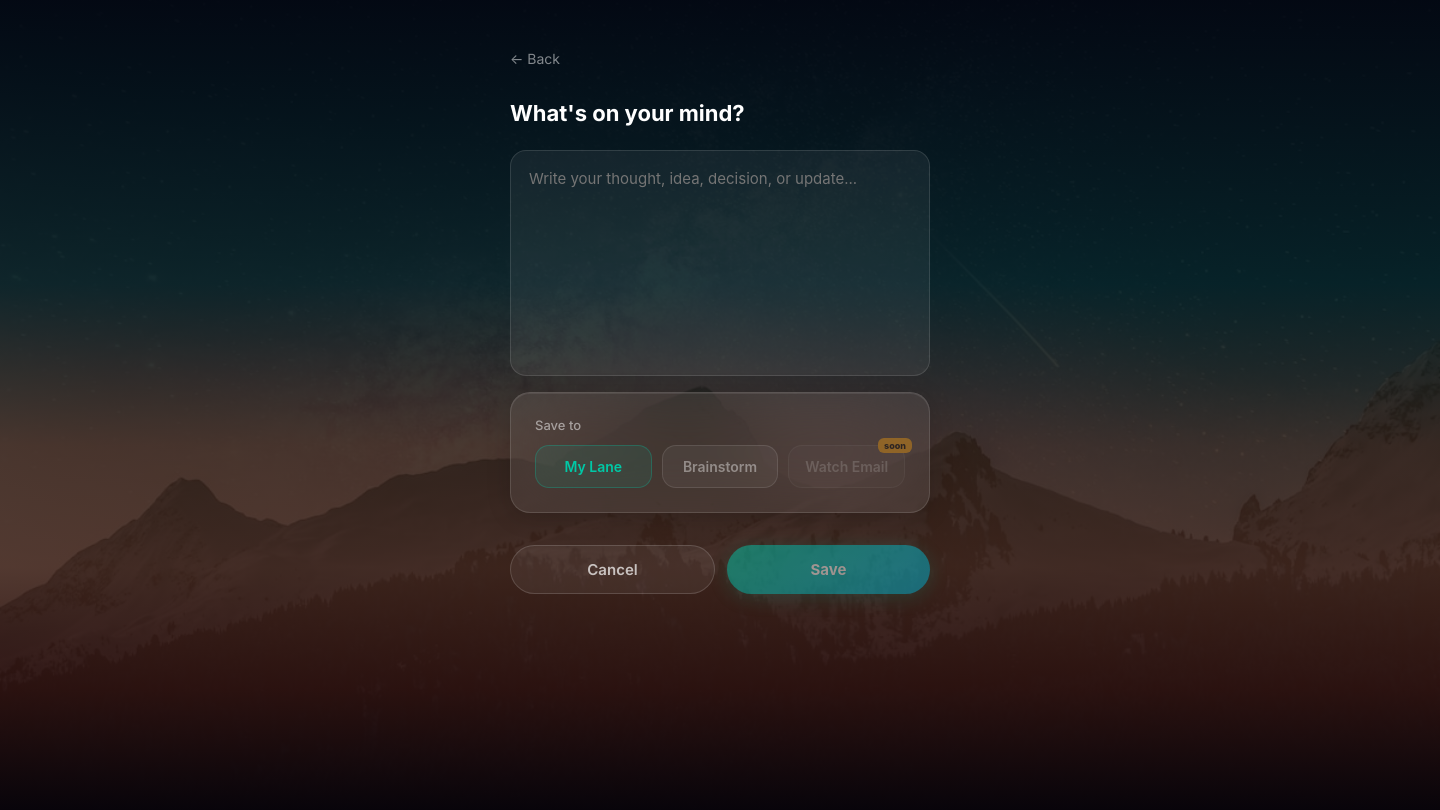
Test: Add Something page › Save button enables when text is entered
This screenshot has width=1440, height=810.
Type "Test thought" into the text box with placeholder "Write your thought, idea, decision, or update..." at [720, 263], box [510,150,930,376]
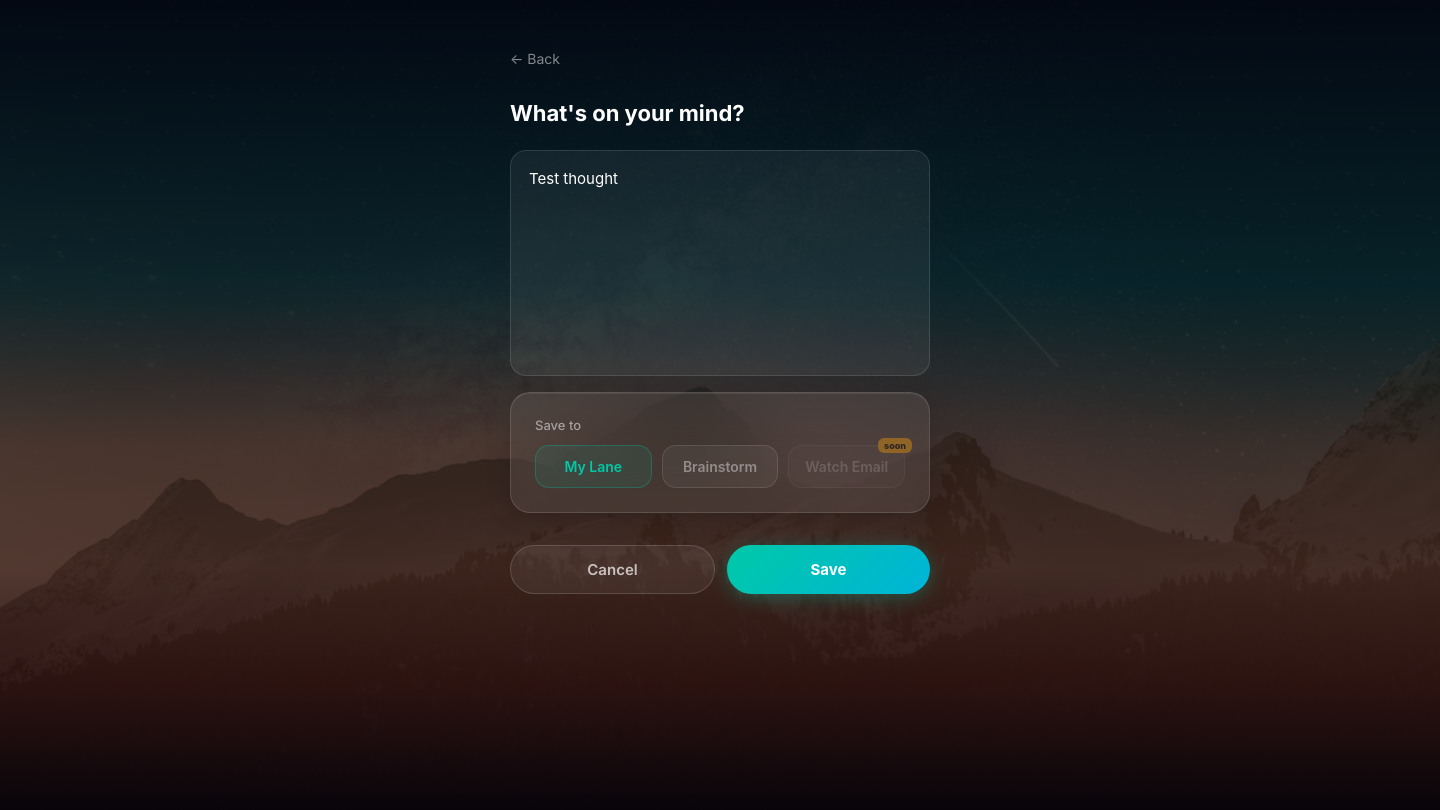
Now the button "Save" is enabled, box [727,545,930,594]
